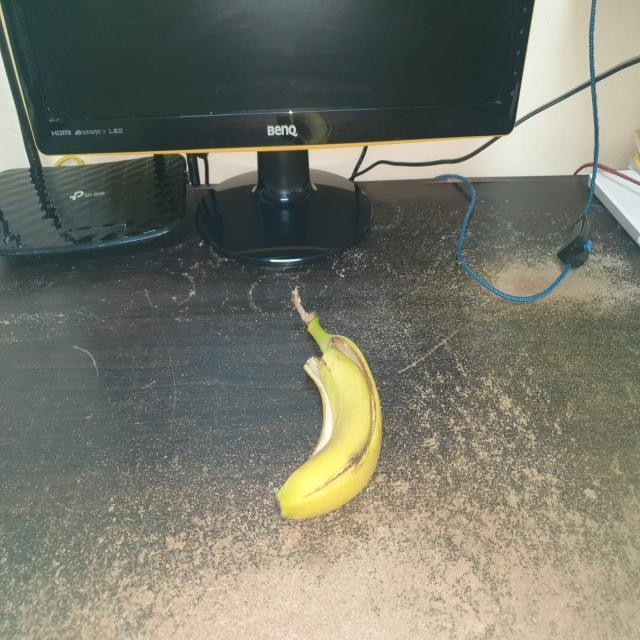banana-peel: (274, 285, 383, 521)
